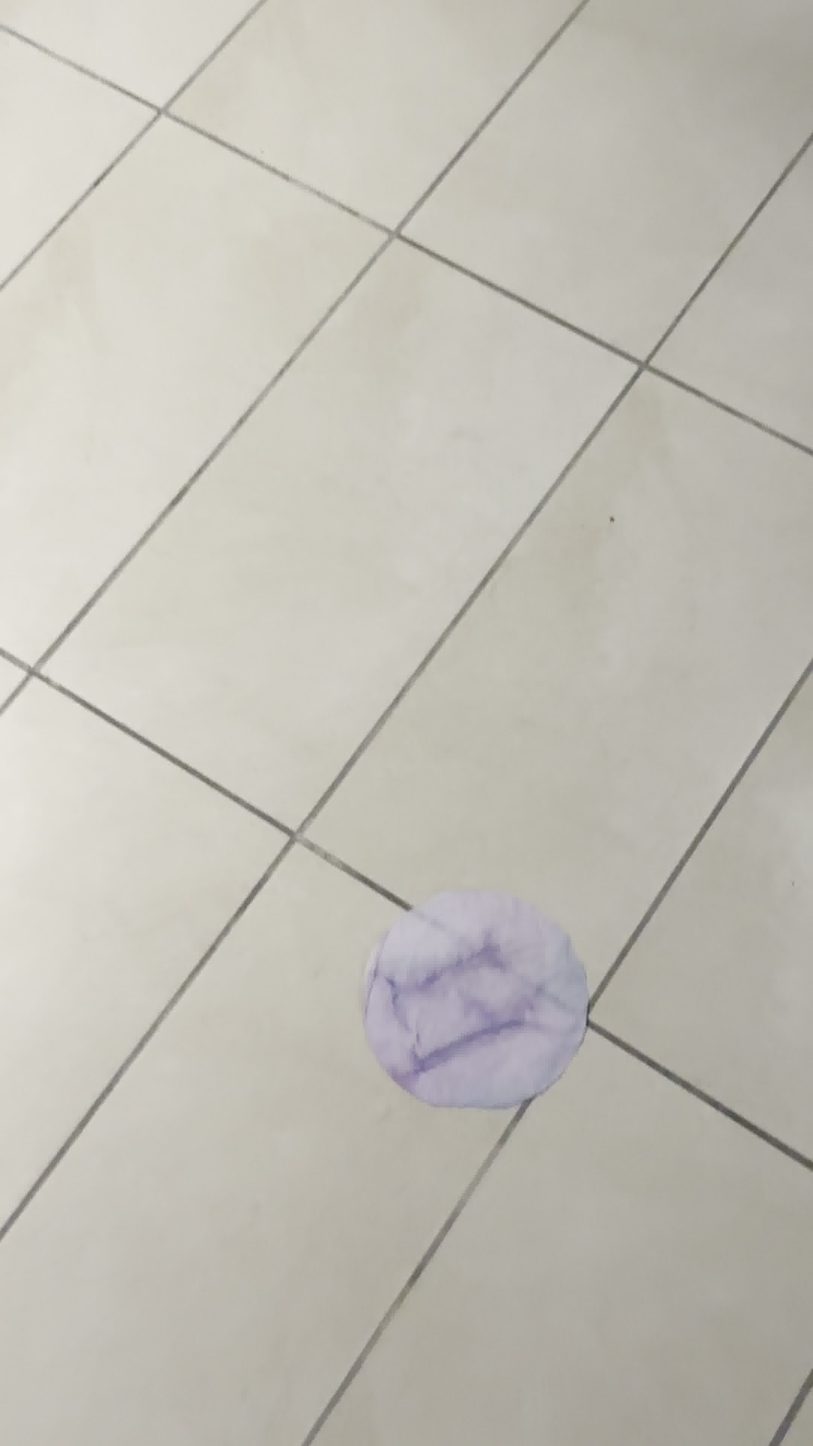Target: (360, 892, 586, 1113)
